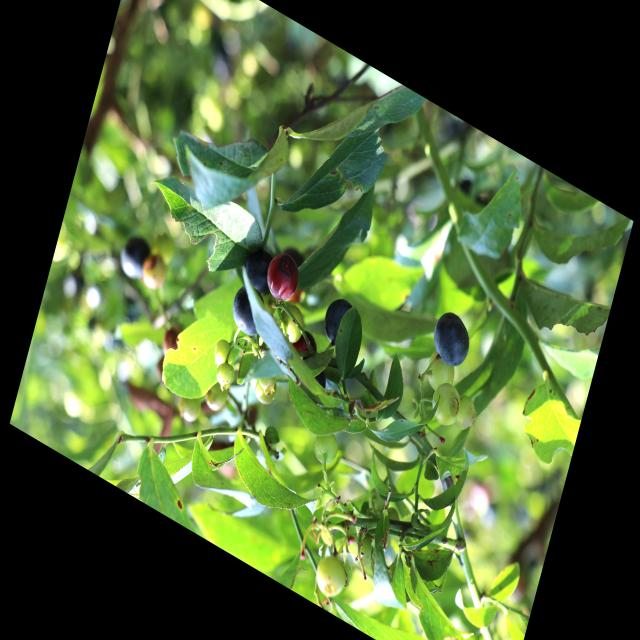blueberry: (427, 303, 477, 375), (319, 289, 363, 354), (228, 280, 272, 343), (237, 242, 279, 302), (116, 229, 155, 287)
blueberry-halfripe: (262, 245, 304, 311), (159, 321, 184, 360)
blueberry-unripe: (426, 377, 464, 438), (310, 549, 350, 604), (277, 301, 308, 352), (426, 352, 460, 397), (251, 367, 280, 409), (453, 394, 479, 436), (212, 334, 238, 372), (214, 358, 238, 394)
